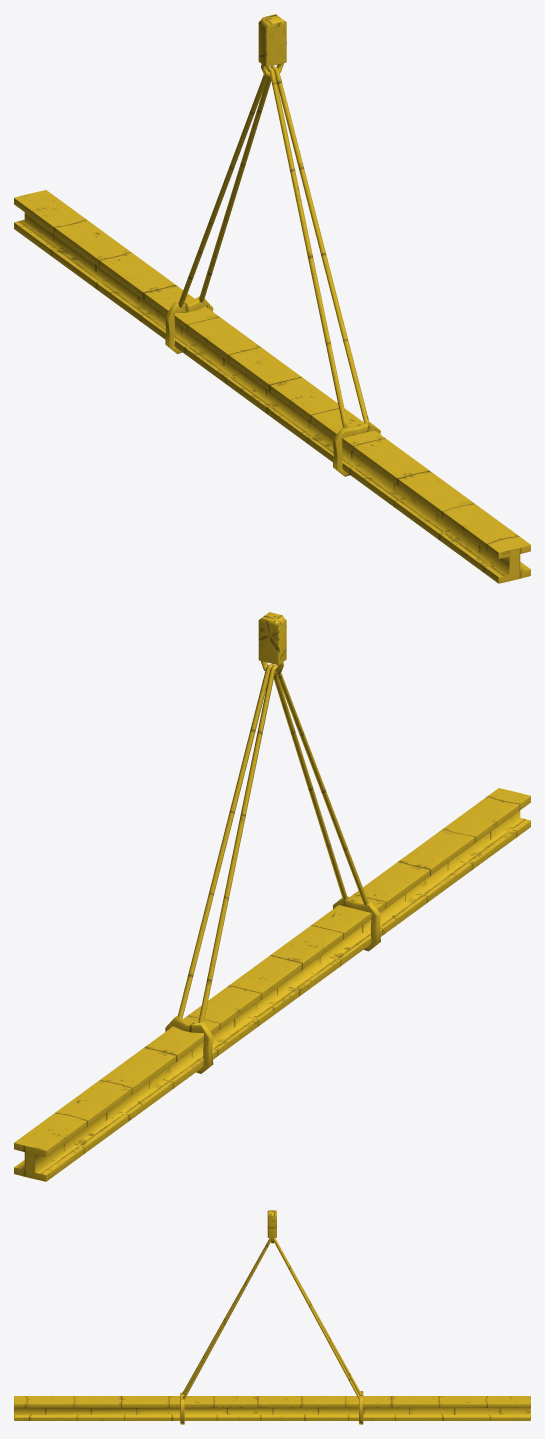
File: MY_BALKA_ALL.fbx
3 renders of one model, top to bottom at view 1: azimuth 30°, elevation 25°; view 2: azimuth 150°, elevation 25°; view 3: azimuth 270°, elevation 25°, orthographic. The views are drawn at different scales.
Visible parts, largest first — view 1: metal.001; view 2: metal.001; view 3: metal.001.
Boxes of the visible parts, bbox=[...] form: metal.001: bbox=[14, 14, 530, 583]; metal.001: bbox=[14, 612, 530, 1181]; metal.001: bbox=[14, 1210, 530, 1424].
Bounding box in the file's own units: 0.3065 × 2.55 × 5.71.
